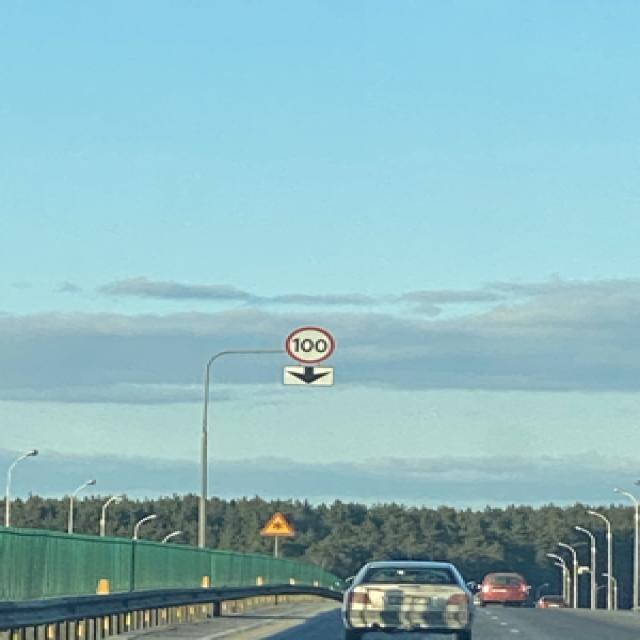speedlimit: (282, 325, 331, 360)
